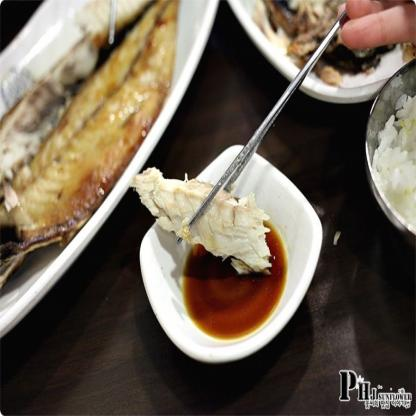Peixe: (0, 0, 204, 273), (132, 160, 282, 272)
